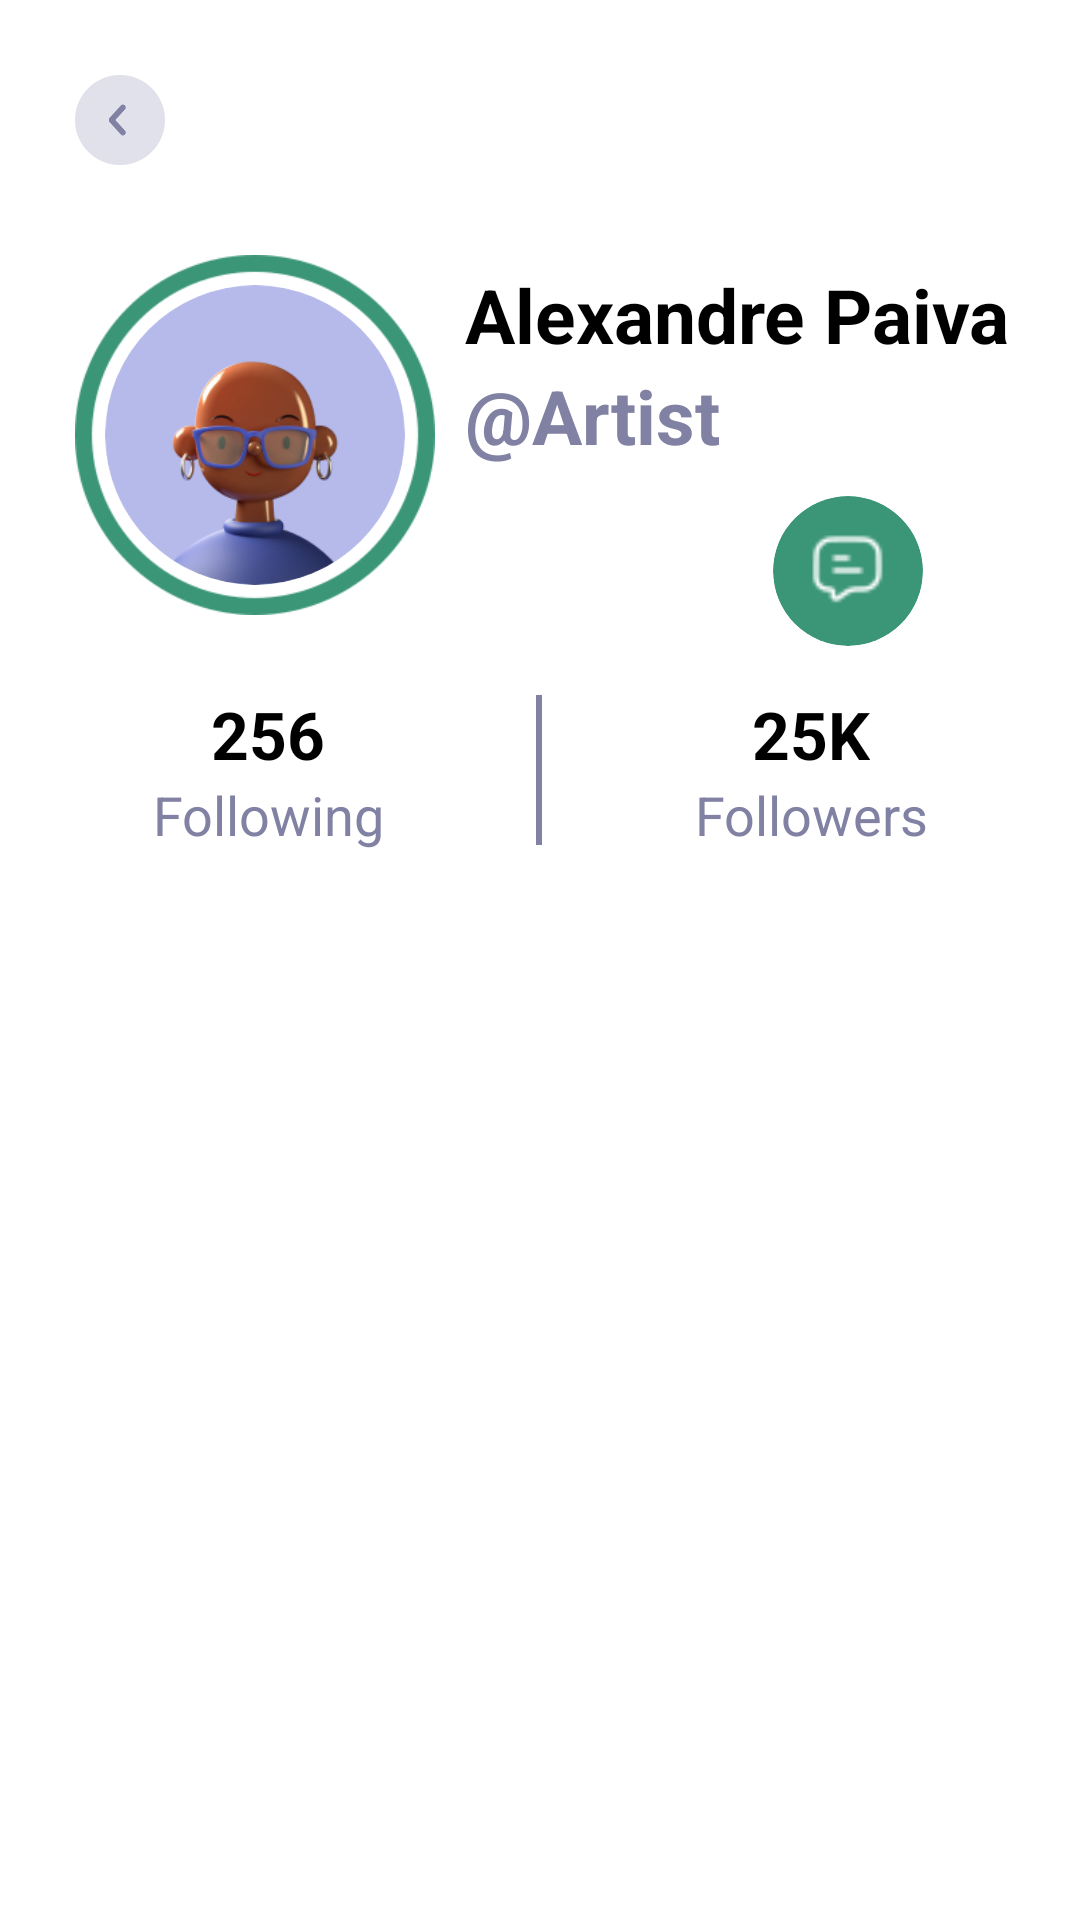

Where to tap for icons on this 1080 x 1920 app screen, as (x,y):
back: (120,120)
comment: (847,569)
